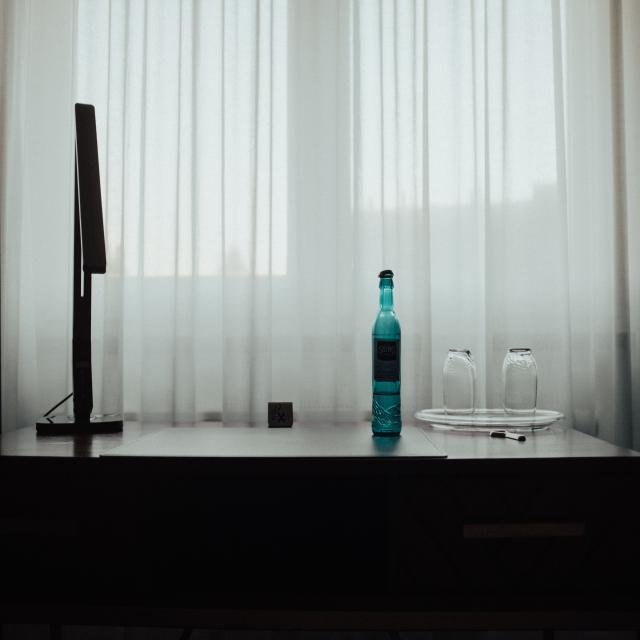Bottle: (372, 270, 401, 436)
